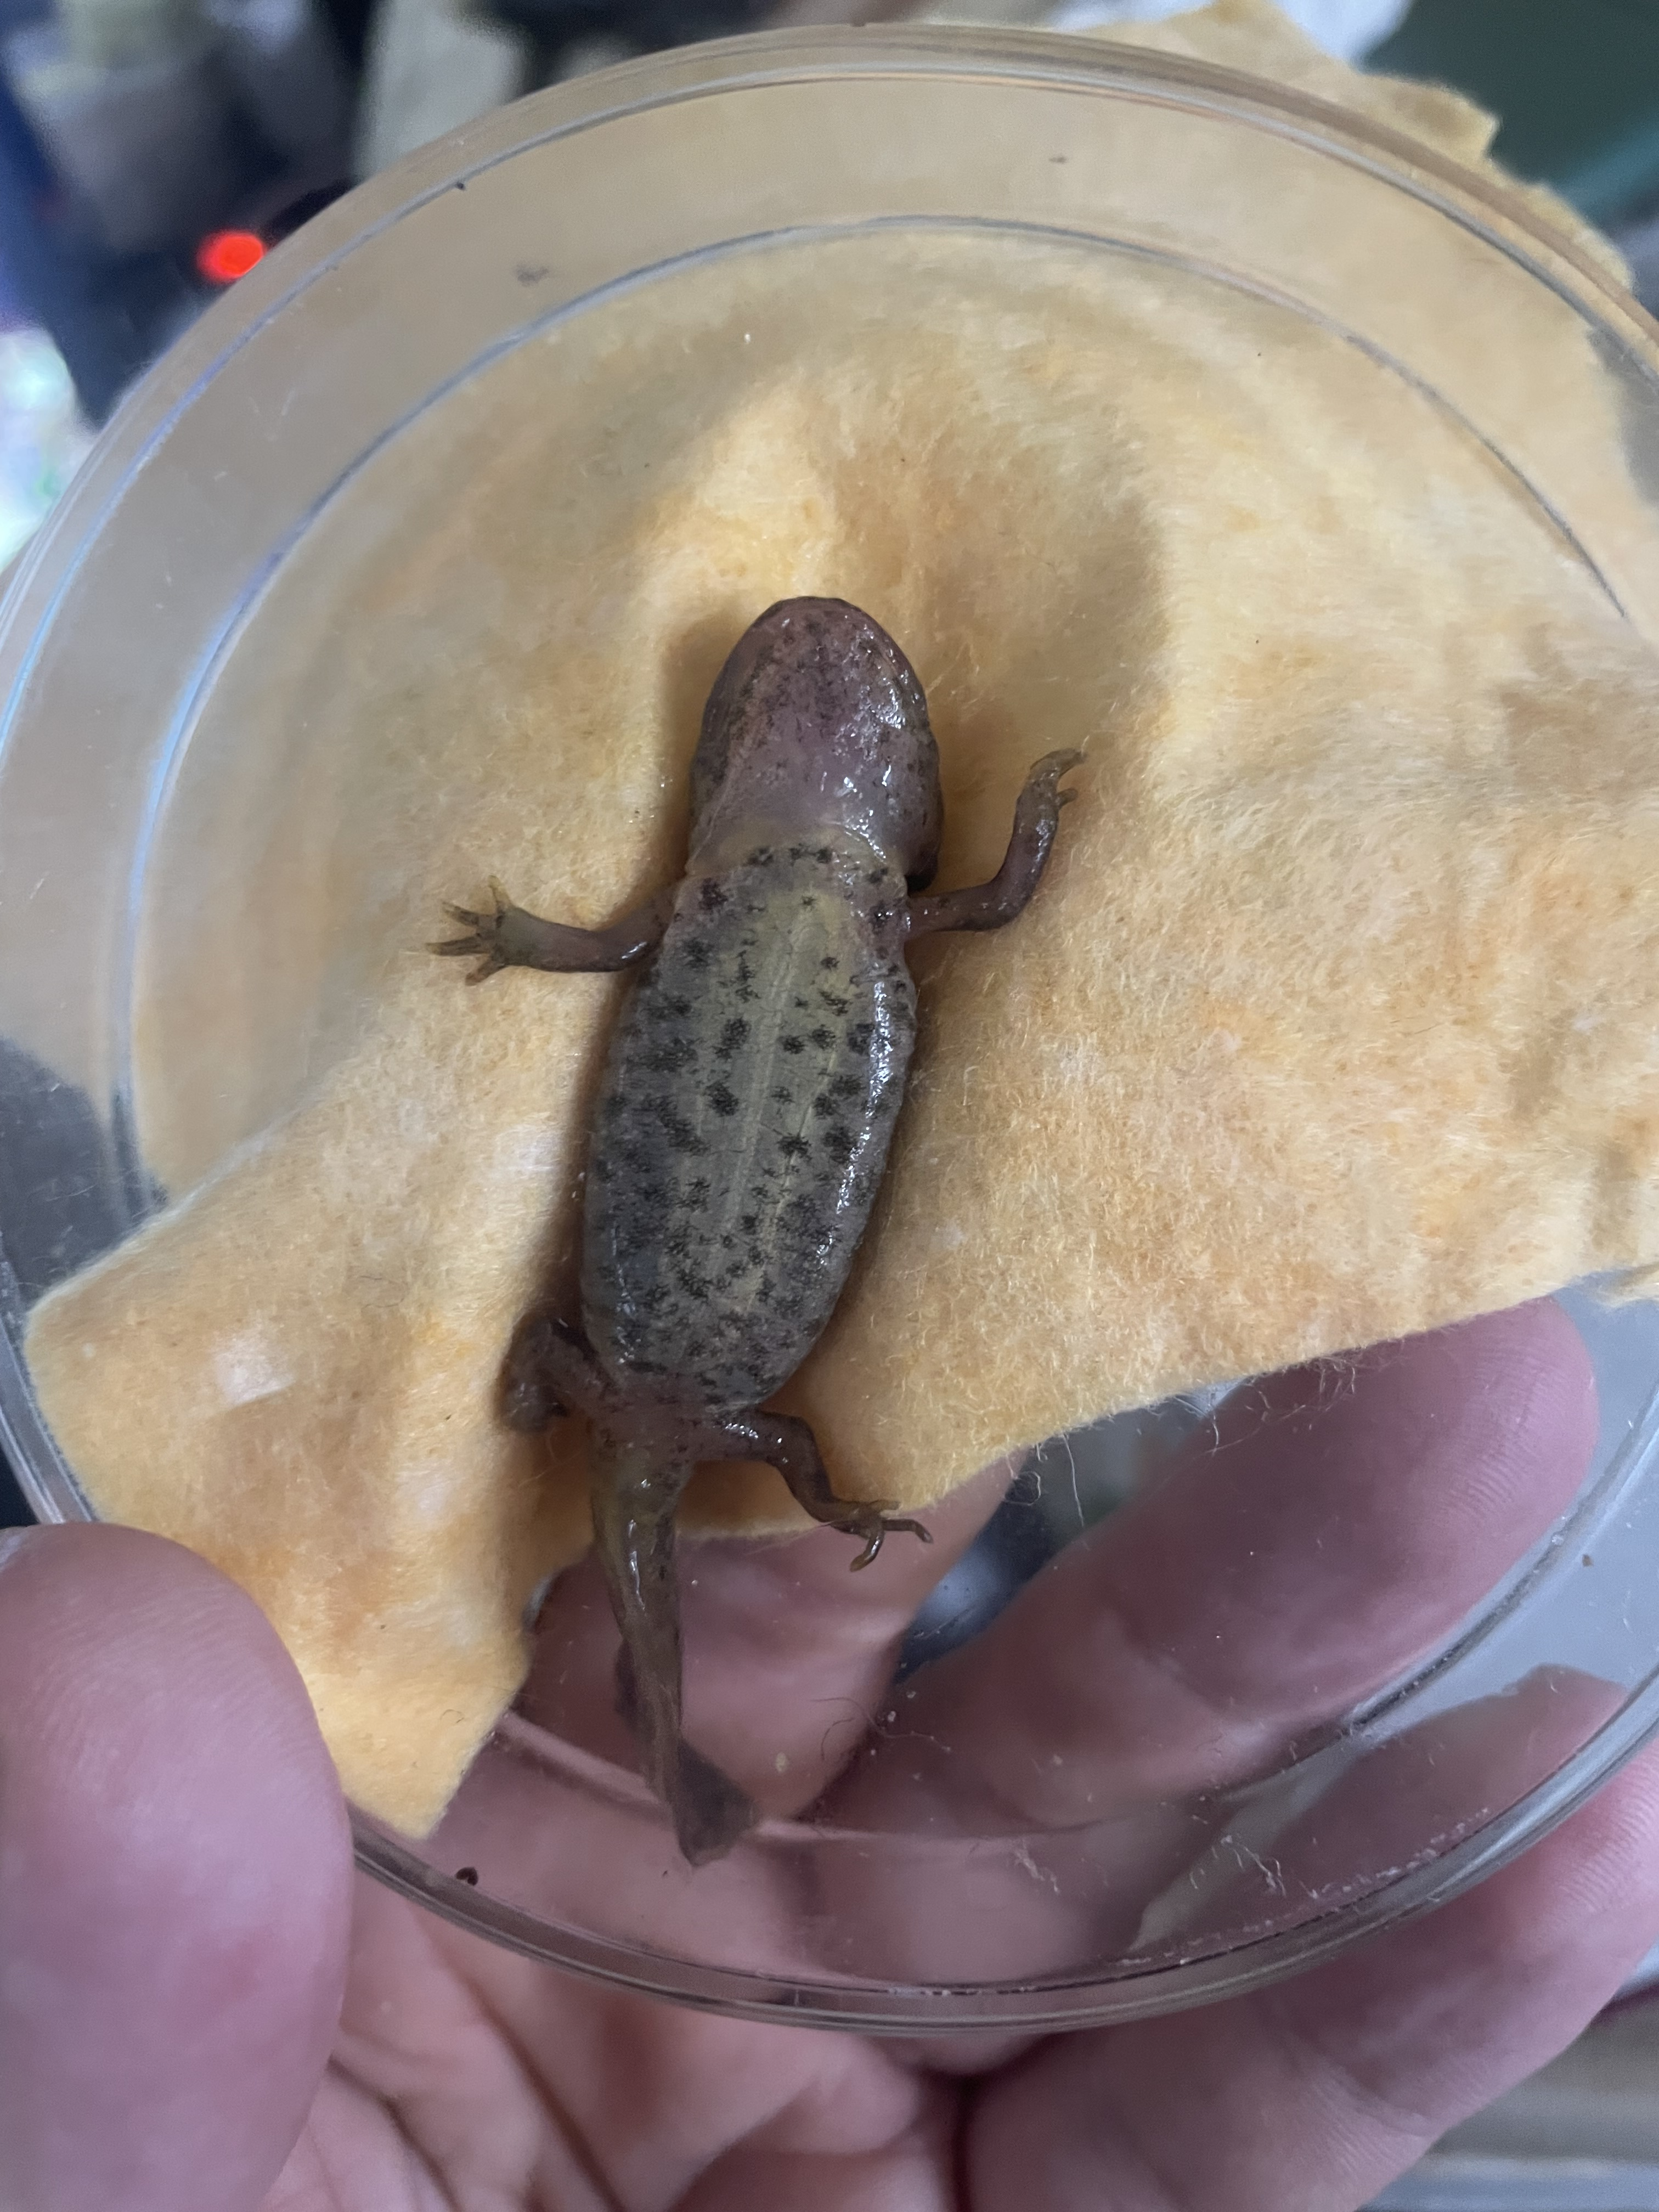newt_ribbed: (579, 944, 920, 1402)
